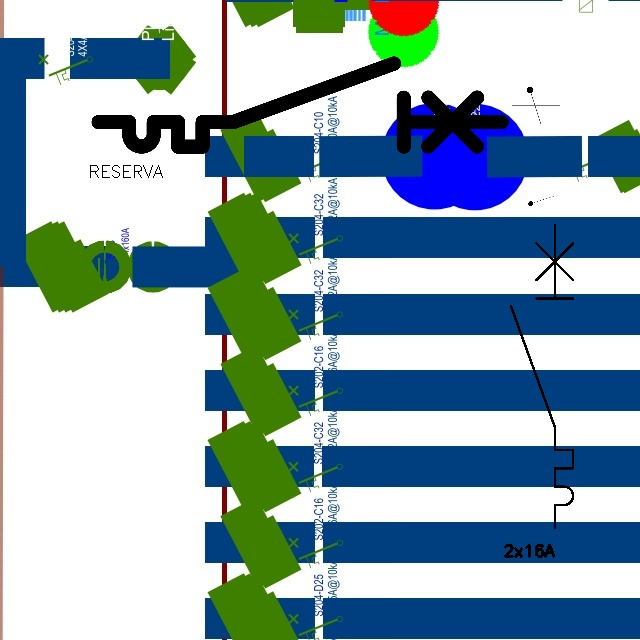interruptor_termomagnetico: (88, 53, 512, 157), (503, 217, 581, 536)
